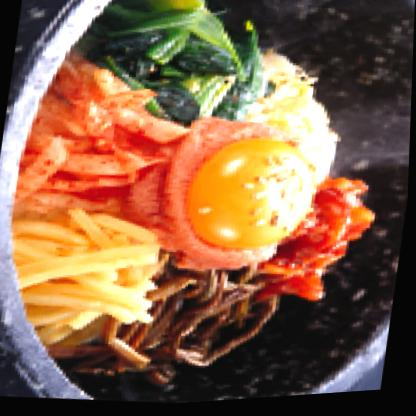bibimbap: (0, 0, 407, 399)
